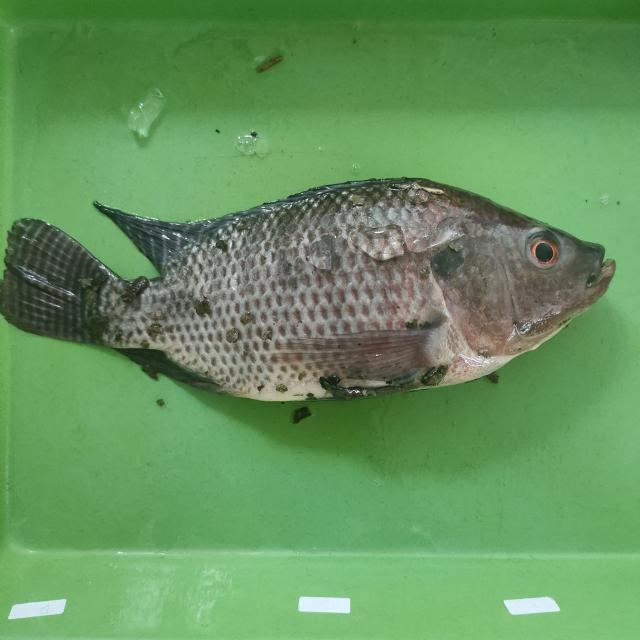Fresh: (15, 168, 492, 415), (509, 201, 597, 274)
